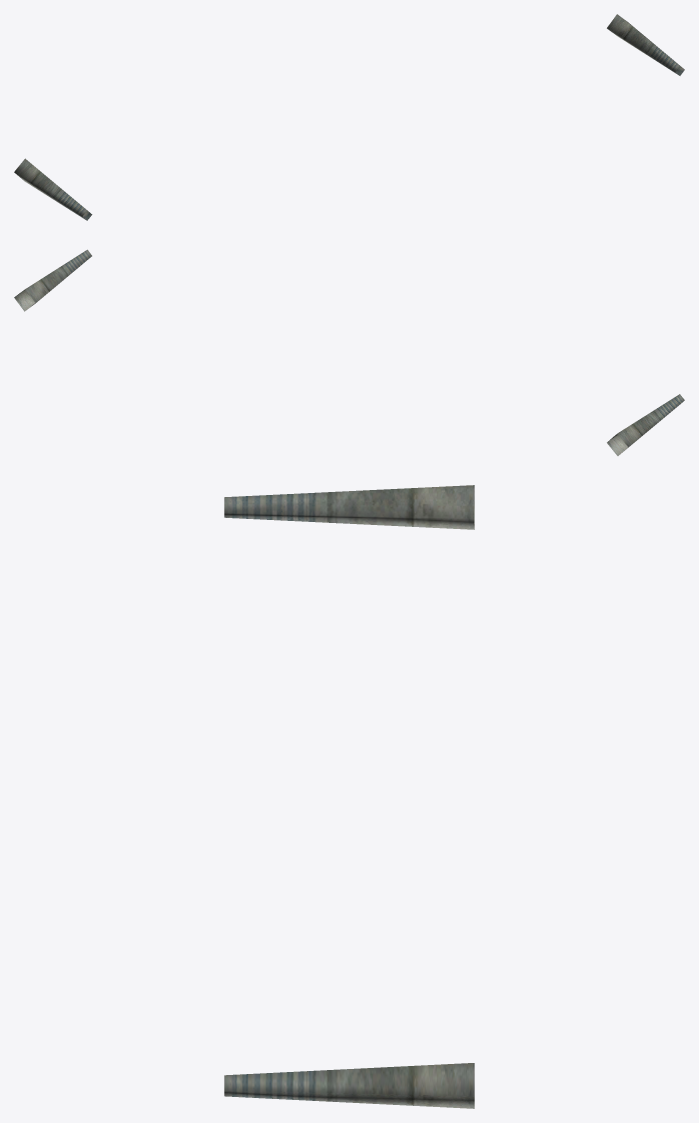
Rendered from hutt_fighter_medium_weapon2_s01_l1.fbx.
3 views of the same model, one above another, from view 1: azimuth 30°, elevation 25°; view 2: azimuth 150°, elevation 25°; view 3: azimuth 270°, elevation 25° (orthographic). The views are drawn at different scales.
Visible parts, largest first — view 1: mesh_node; view 2: mesh_node; view 3: mesh_node.
Part boxes in pixels (left/top/right/bottom): mesh_node: left=14, top=14, right=684, bottom=220; mesh_node: left=14, top=249, right=684, bottom=455; mesh_node: left=224, top=485, right=474, bottom=1108.
Bounding box in the file's own units: 3.13 × 0.1106 × 0.5522.
